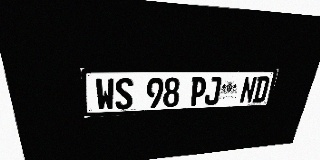8: (163, 77, 181, 107)
9: (146, 77, 164, 108)
D: (252, 76, 271, 103)
J: (204, 77, 222, 105)
N: (239, 76, 258, 104)
P: (189, 77, 207, 106)
S: (115, 78, 133, 110)
W: (95, 78, 115, 111)
